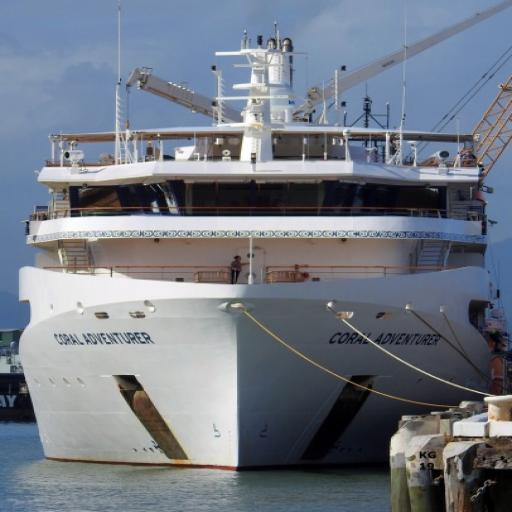cruises: (11, 35, 511, 479)
